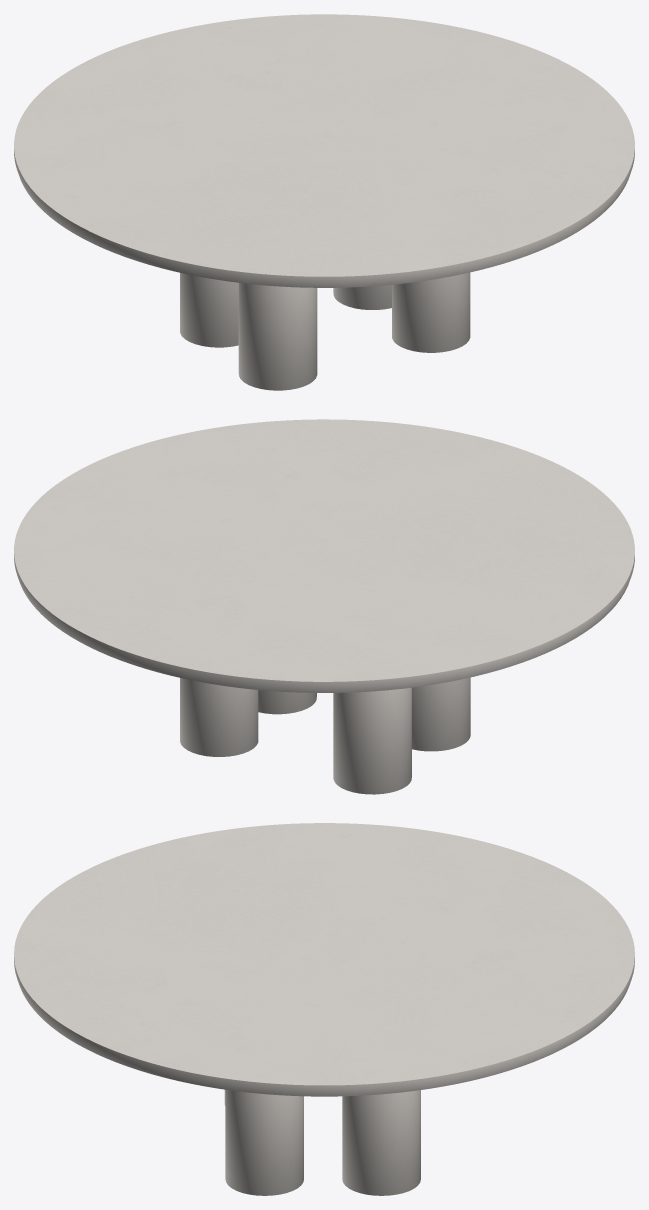
Rendered from pearlwhite_round_facet_grove.glb.
The picture shows the model from 3 angles, top to bottom: view 1: azimuth 30°, elevation 25°; view 2: azimuth 150°, elevation 25°; view 3: azimuth 270°, elevation 25°; orthographic projection.
Visible parts, largest first — view 1: tabletop_round_facet.009, tableleg_grove.016; view 2: tabletop_round_facet.009, tableleg_grove.016; view 3: tabletop_round_facet.009, tableleg_grove.016.
Part boxes in pixels (bbox=[...]): tabletop_round_facet.009: bbox=[14, 14, 634, 287]; tableleg_grove.016: bbox=[180, 272, 470, 390]; tabletop_round_facet.009: bbox=[14, 419, 634, 692]; tableleg_grove.016: bbox=[180, 677, 470, 794]; tabletop_round_facet.009: bbox=[14, 823, 634, 1096]; tableleg_grove.016: bbox=[224, 1089, 420, 1195].
Bounding box in the file's own units: 7.5 × 2.5 × 7.5.
2 materials, 2 textured.
